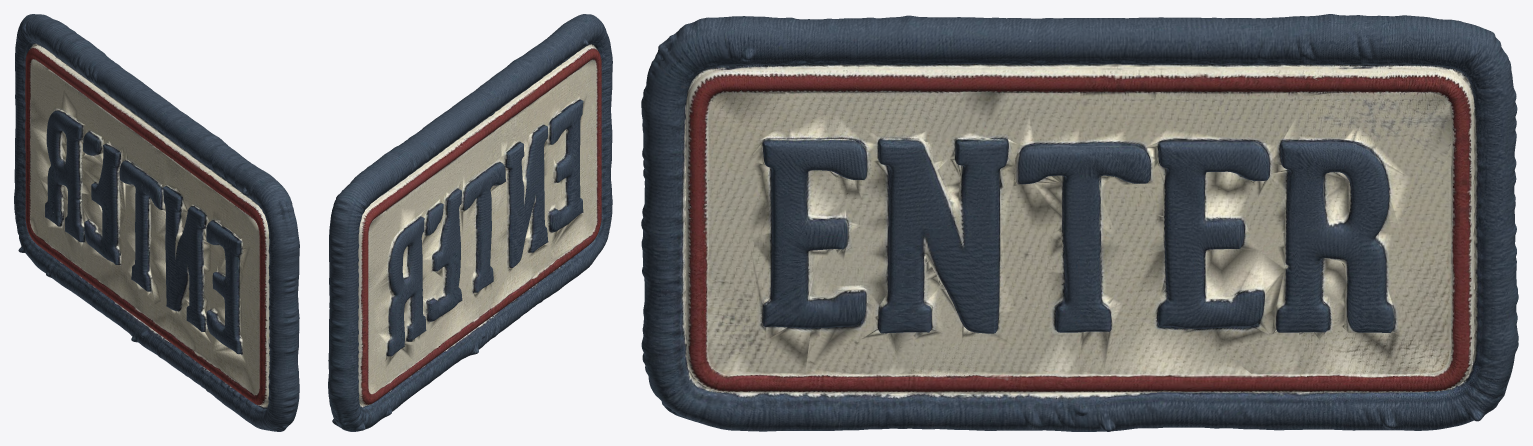
File: embroidered-patch.glb
3 views of the same model, side by side, from view 1: azimuth 30°, elevation 25°; view 2: azimuth 150°, elevation 25°; view 3: azimuth 270°, elevation 25° (orthographic). The views are drawn at different scales.
Parts seen in each view (by area): view 1: tripo_node_8d35a5f7-182a-4b70-8b44-3a707f49f8ec; view 2: tripo_node_8d35a5f7-182a-4b70-8b44-3a707f49f8ec; view 3: tripo_node_8d35a5f7-182a-4b70-8b44-3a707f49f8ec.
Boxes of the visible parts, x1,y1,x2,y2 form: tripo_node_8d35a5f7-182a-4b70-8b44-3a707f49f8ec: (14, 14, 299, 431); tripo_node_8d35a5f7-182a-4b70-8b44-3a707f49f8ec: (328, 14, 612, 431); tripo_node_8d35a5f7-182a-4b70-8b44-3a707f49f8ec: (641, 14, 1518, 431).
Bounding box in the file's own units: 0.079 × 0.5066 × 0.9788.
1 material, 1 textured.
